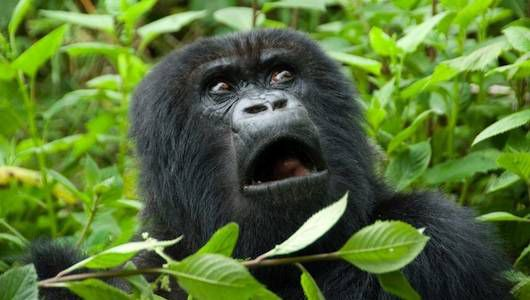Goriila: (124, 24, 454, 284)
